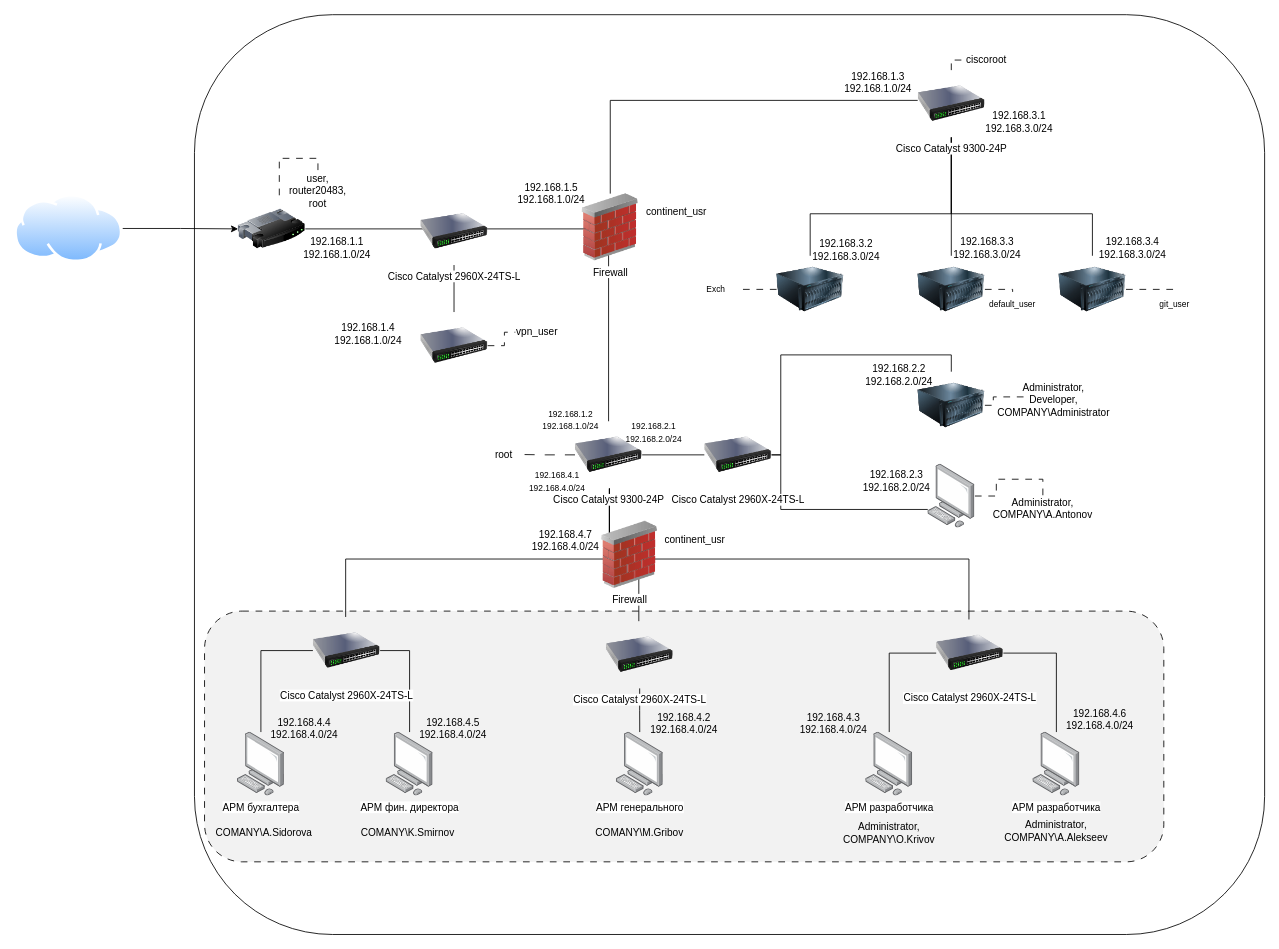
Some shapes in this 1279 by 949 pixel diagram are drawn without their labels. The shapes that lost their labels are listed below. From the top down, each one's centre as x and y in pixels, then its label:
At [271,228]: "Cisco ISR 4321".
At [809,289]: "MS Exchange 2022".
At [950,289]: "Backup Server".
At [1092,289]: "GitLab".
At [453,345]: "VPN Server".
At [950,404]: "WS 2022 Domain Controller".
At [950,496]: "АРМ сисадмина".
